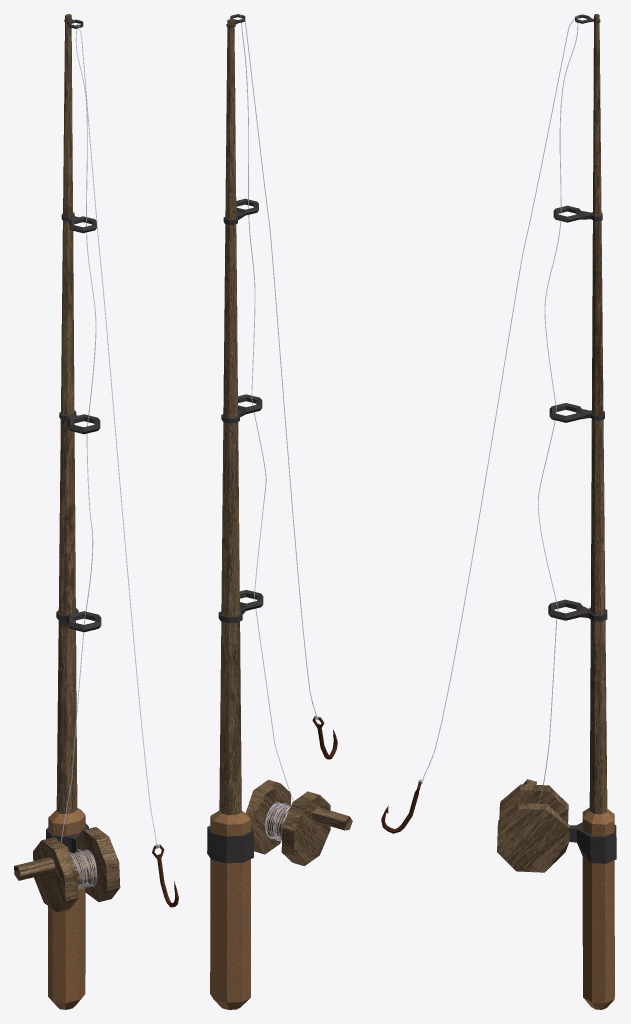
3 views of the same model, side by side, from view 1: azimuth 30°, elevation 25°; view 2: azimuth 150°, elevation 25°; view 3: azimuth 270°, elevation 25° (orthographic).
Parts seen in each view (by area): view 1: Fishing Rod_1, BezierCurve.001_3, Hook_2; view 2: Fishing Rod_1, BezierCurve.001_3, Hook_2; view 3: Fishing Rod_1, BezierCurve.001_3.
Boxes of the visible parts, x1,y1,x2,y2 form: Fishing Rod_1: [14, 14, 120, 1009]; BezierCurve.001_3: [61, 23, 160, 889]; Hook_2: [152, 844, 178, 907]; Fishing Rod_1: [207, 14, 352, 1009]; BezierCurve.001_3: [240, 14, 319, 841]; Hook_2: [312, 716, 337, 759]; Fishing Rod_1: [497, 14, 616, 1009]; BezierCurve.001_3: [418, 16, 578, 803].
Bounding box in the file's own units: 3.25 × 29.51 × 6.36.
5 materials, 4 textured.
